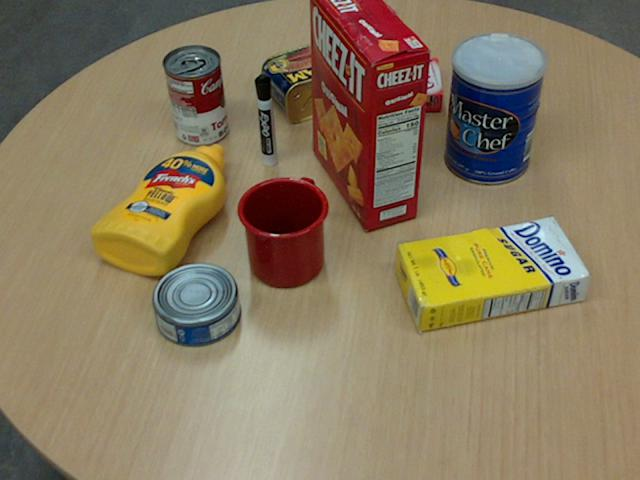cracker_box: (310, 0, 429, 228)
gelatin_box: (382, 56, 441, 111)
large_marker: (254, 73, 275, 166)
master_chef_can: (443, 33, 545, 185)
mug: (235, 176, 327, 287)
mustard_bottle: (89, 143, 225, 274)
potted_meat_can: (261, 42, 358, 122)
sugar_box: (393, 217, 590, 334)
tomato_soup_can: (163, 43, 227, 144)
tuna_fish_can: (150, 262, 239, 346)
